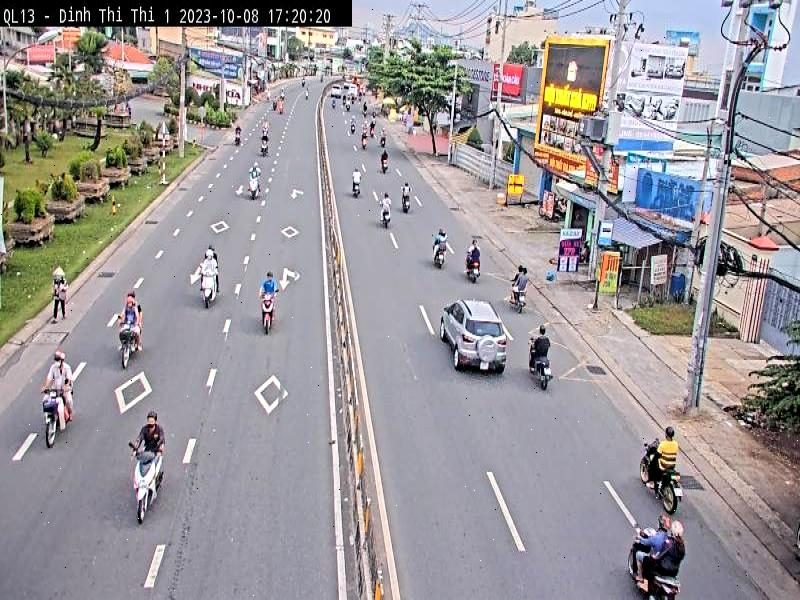car: (439, 300, 508, 378)
motorcycle: (629, 524, 679, 600), (640, 439, 681, 518), (128, 442, 162, 526), (39, 385, 68, 451), (257, 286, 281, 338), (114, 314, 136, 368), (197, 263, 219, 306), (532, 354, 554, 390)
